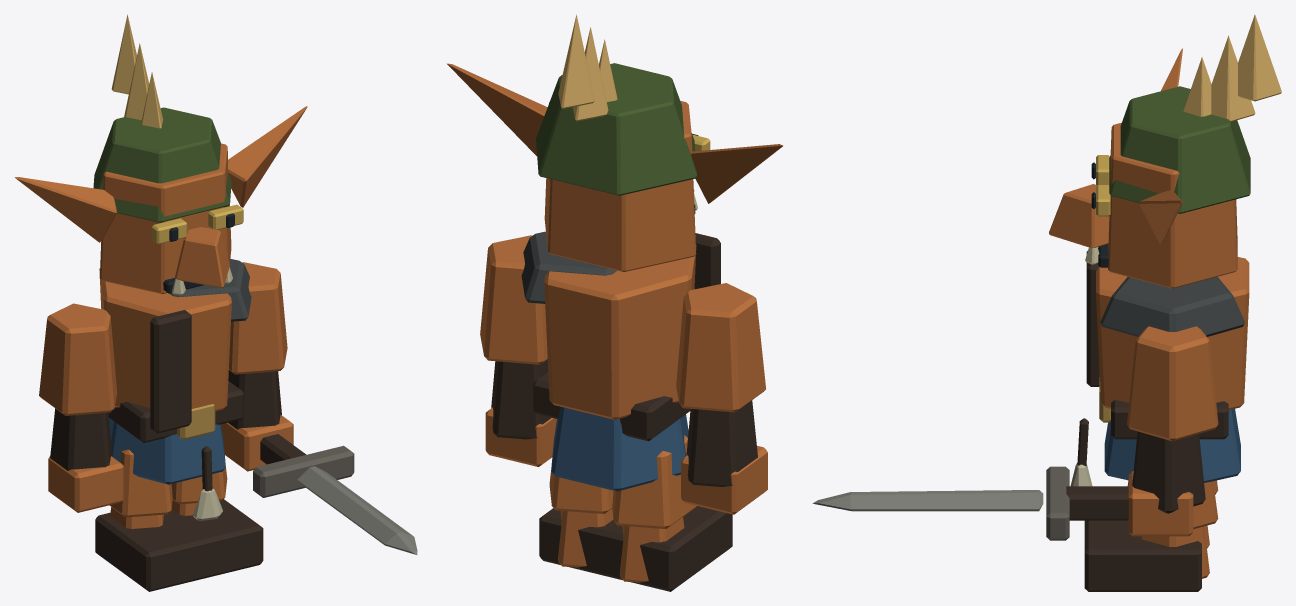
The model's file is runner.glb.
3 renders of one model, left to right at view 1: azimuth 30°, elevation 25°; view 2: azimuth 150°, elevation 25°; view 3: azimuth 270°, elevation 25°, orthographic. The views are drawn at different scales.
Visible parts, largest first — view 1: head.005, torso.005, upper_arm_l.005, pelvis.005, weapon.005, shin_l.005, forearm_l.005, upper_arm_r.005, forearm_r.005, shin_r.005, thigh_l.005, talisman.001 (+1 smaller); view 2: head.005, torso.005, pelvis.005, upper_arm_l.005, forearm_l.005, shin_l.005, upper_arm_r.005, forearm_r.005, shin_r.005, thigh_l.005, thigh_r.005; view 3: head.005, torso.005, upper_arm_r.005, weapon.005, shin_r.005, forearm_r.005, pelvis.005, talisman.001, thigh_r.005.
Boxes of the visible parts, x1,y1,x2,y2 form: head.005: (14, 14, 307, 295); torso.005: (99, 259, 251, 433); upper_arm_l.005: (39, 303, 117, 415); pelvis.005: (108, 381, 244, 484); weapon.005: (253, 434, 417, 554); shin_l.005: (95, 507, 207, 591); forearm_l.005: (48, 408, 123, 512); upper_arm_r.005: (229, 262, 287, 374); forearm_r.005: (221, 370, 293, 471); shin_r.005: (168, 499, 263, 577); thigh_l.005: (109, 449, 172, 517); talisman.001: (192, 446, 222, 521); head.005: (447, 14, 782, 271); torso.005: (521, 231, 720, 419); pelvis.005: (533, 372, 690, 491); upper_arm_l.005: (676, 283, 765, 412); forearm_l.005: (681, 400, 767, 514); shin_l.005: (603, 506, 732, 591); upper_arm_r.005: (480, 235, 547, 364); forearm_r.005: (485, 359, 556, 466); shin_r.005: (539, 508, 616, 575); thigh_l.005: (612, 435, 696, 528); thigh_r.005: (549, 470, 613, 513); head.005: (1049, 14, 1281, 288); torso.005: (1086, 248, 1249, 409); upper_arm_r.005: (1127, 326, 1218, 441); weapon.005: (812, 466, 1128, 540); shin_r.005: (1084, 521, 1209, 591); forearm_r.005: (1128, 431, 1205, 536); pelvis.005: (1099, 377, 1240, 482); talisman.001: (1070, 418, 1092, 486); thigh_r.005: (1193, 481, 1218, 529).
Bounding box in the file's own units: 1.24 × 2.06 × 1.6.
